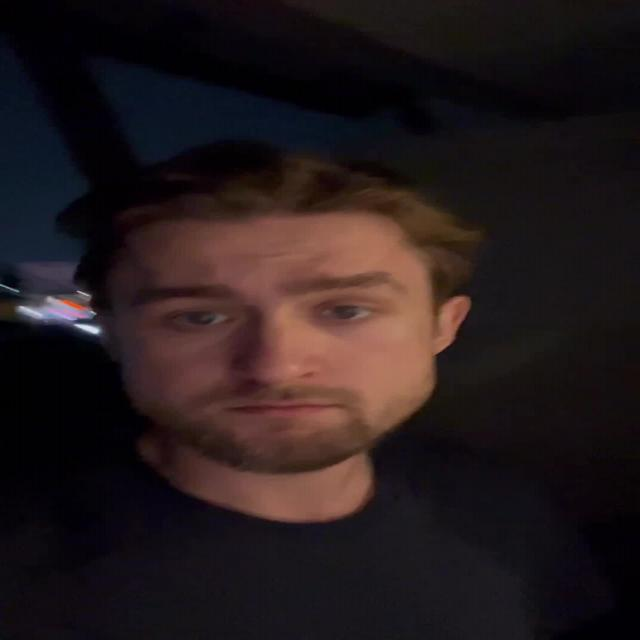earlobe: (431, 333, 456, 355)
eye: (163, 310, 237, 327), (316, 304, 380, 322)
nose: (240, 375, 322, 401)
wholeear: (431, 296, 473, 354), (92, 315, 120, 361)
